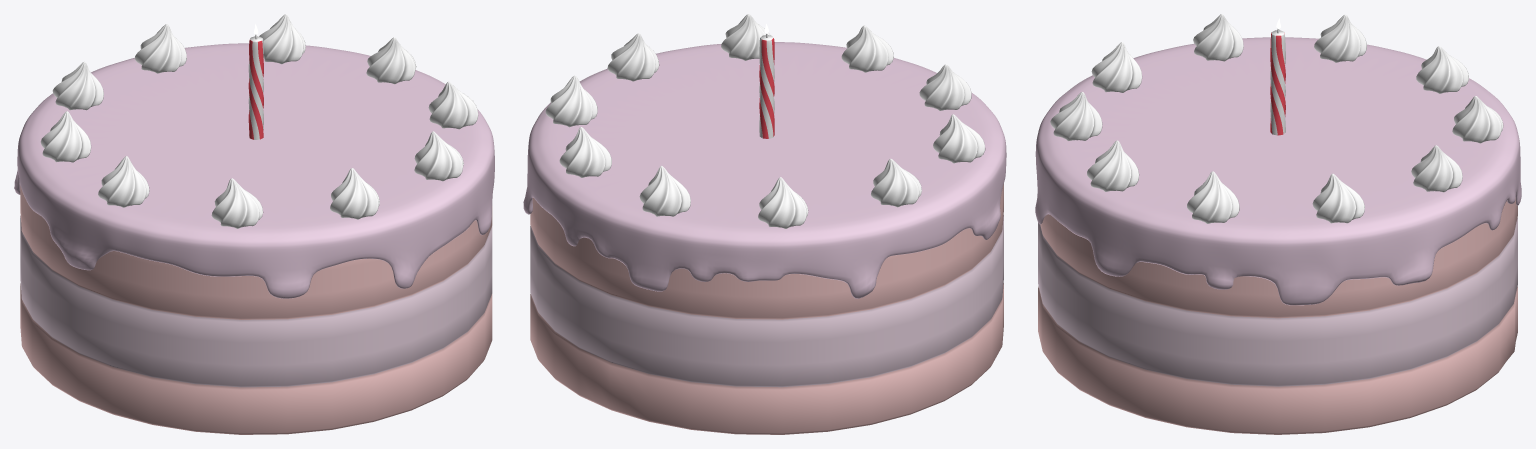
Rendered from cake.gltf.
3 views of the same model, side by side, from view 1: azimuth 30°, elevation 25°; view 2: azimuth 150°, elevation 25°; view 3: azimuth 270°, elevation 25° (orthographic).
Visible parts, largest first — view 1: Cylinder.001_3, Cylinder_2, Circle_4, Cylinder.002_5; view 2: Cylinder.001_3, Cylinder_2, Circle_4, Cylinder.002_5; view 3: Cylinder.001_3, Cylinder_2, Circle_4, Cylinder.002_5.
Part boxes in pixels (x1,y1,x2,y2): Cylinder.001_3: (14, 43, 494, 298); Cylinder_2: (20, 185, 492, 434); Circle_4: (40, 14, 478, 228); Cylinder.002_5: (248, 34, 263, 139); Cylinder.001_3: (523, 42, 1006, 298); Cylinder_2: (530, 184, 1003, 434); Circle_4: (545, 14, 985, 228); Cylinder.002_5: (759, 34, 774, 138); Cylinder.001_3: (1035, 37, 1521, 305); Cylinder_2: (1038, 197, 1517, 434); Circle_4: (1050, 14, 1503, 223); Cylinder.002_5: (1270, 29, 1285, 135).
Size of the model in its own units: 2.03 by 1.46 by 2.03.
